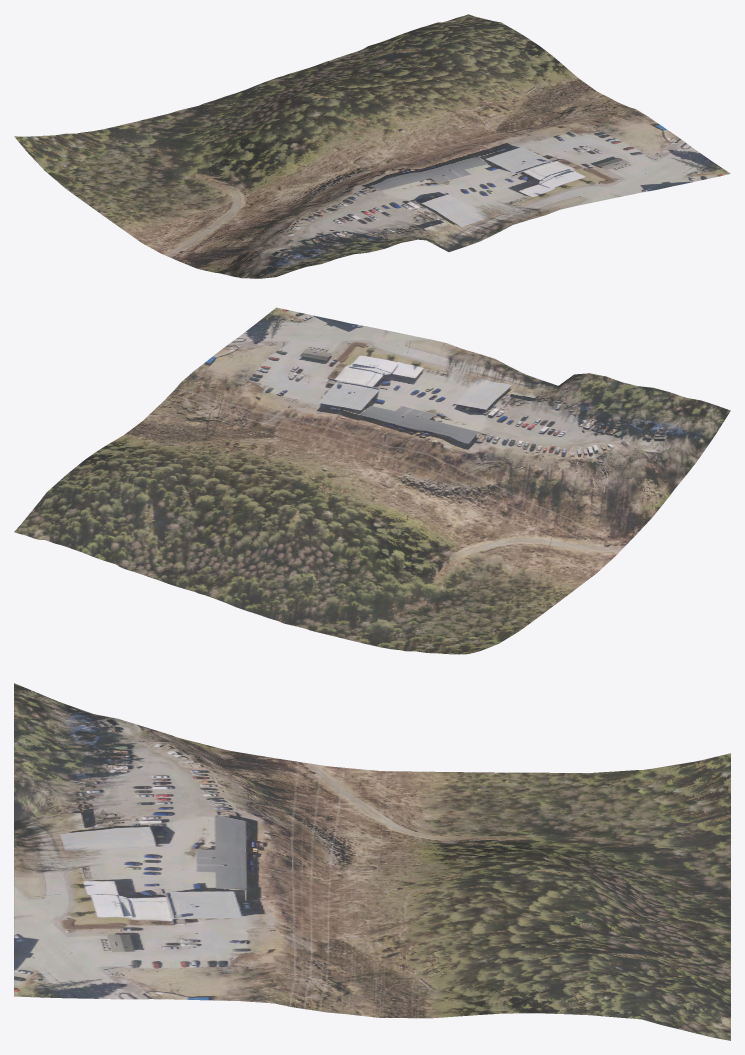
Rendered from CM_Terrain_24491482_6816517.fbx.
The picture shows the model from 3 angles, top to bottom: view 1: azimuth 30°, elevation 25°; view 2: azimuth 150°, elevation 25°; view 3: azimuth 270°, elevation 25°; orthographic projection. The views are drawn at different scales.
Visible parts, largest first — view 1: CM_Terrain_24491482_6816517_LOD0; view 2: CM_Terrain_24491482_6816517_LOD0; view 3: CM_Terrain_24491482_6816517_LOD0.
Part boxes in pixels (x1,y1,x2,y2): CM_Terrain_24491482_6816517_LOD0: (14, 14, 730, 278); CM_Terrain_24491482_6816517_LOD0: (14, 307, 730, 654); CM_Terrain_24491482_6816517_LOD0: (14, 683, 730, 1040).
Size of what is drawn, in the model's own units: 205 by 30.34 by 205.
